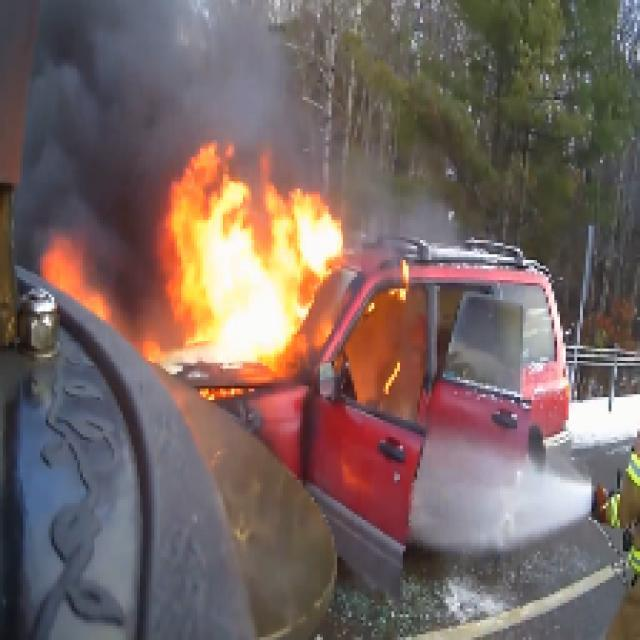Fire: (120, 117, 452, 466)
Smoke: (0, 0, 200, 357)
